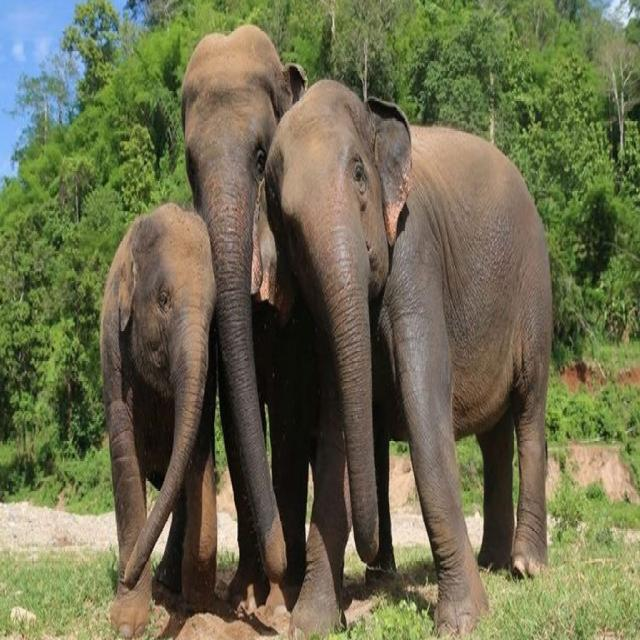Elephant: (249, 67, 573, 638), (171, 0, 304, 623), (86, 181, 224, 640)
